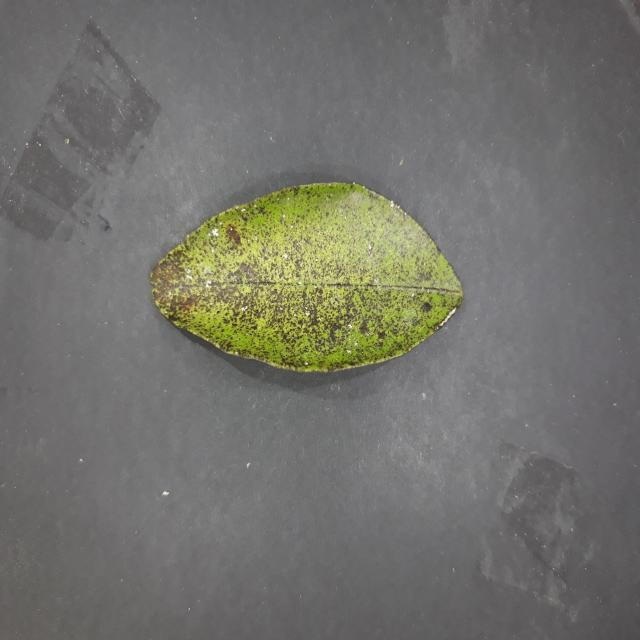greasy_spot: (151, 183, 463, 371)
